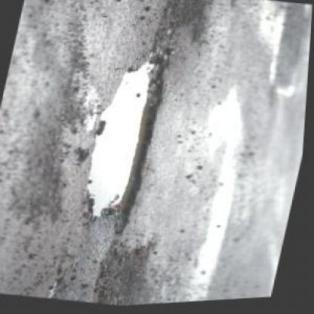Hueco: (76, 47, 176, 232)
